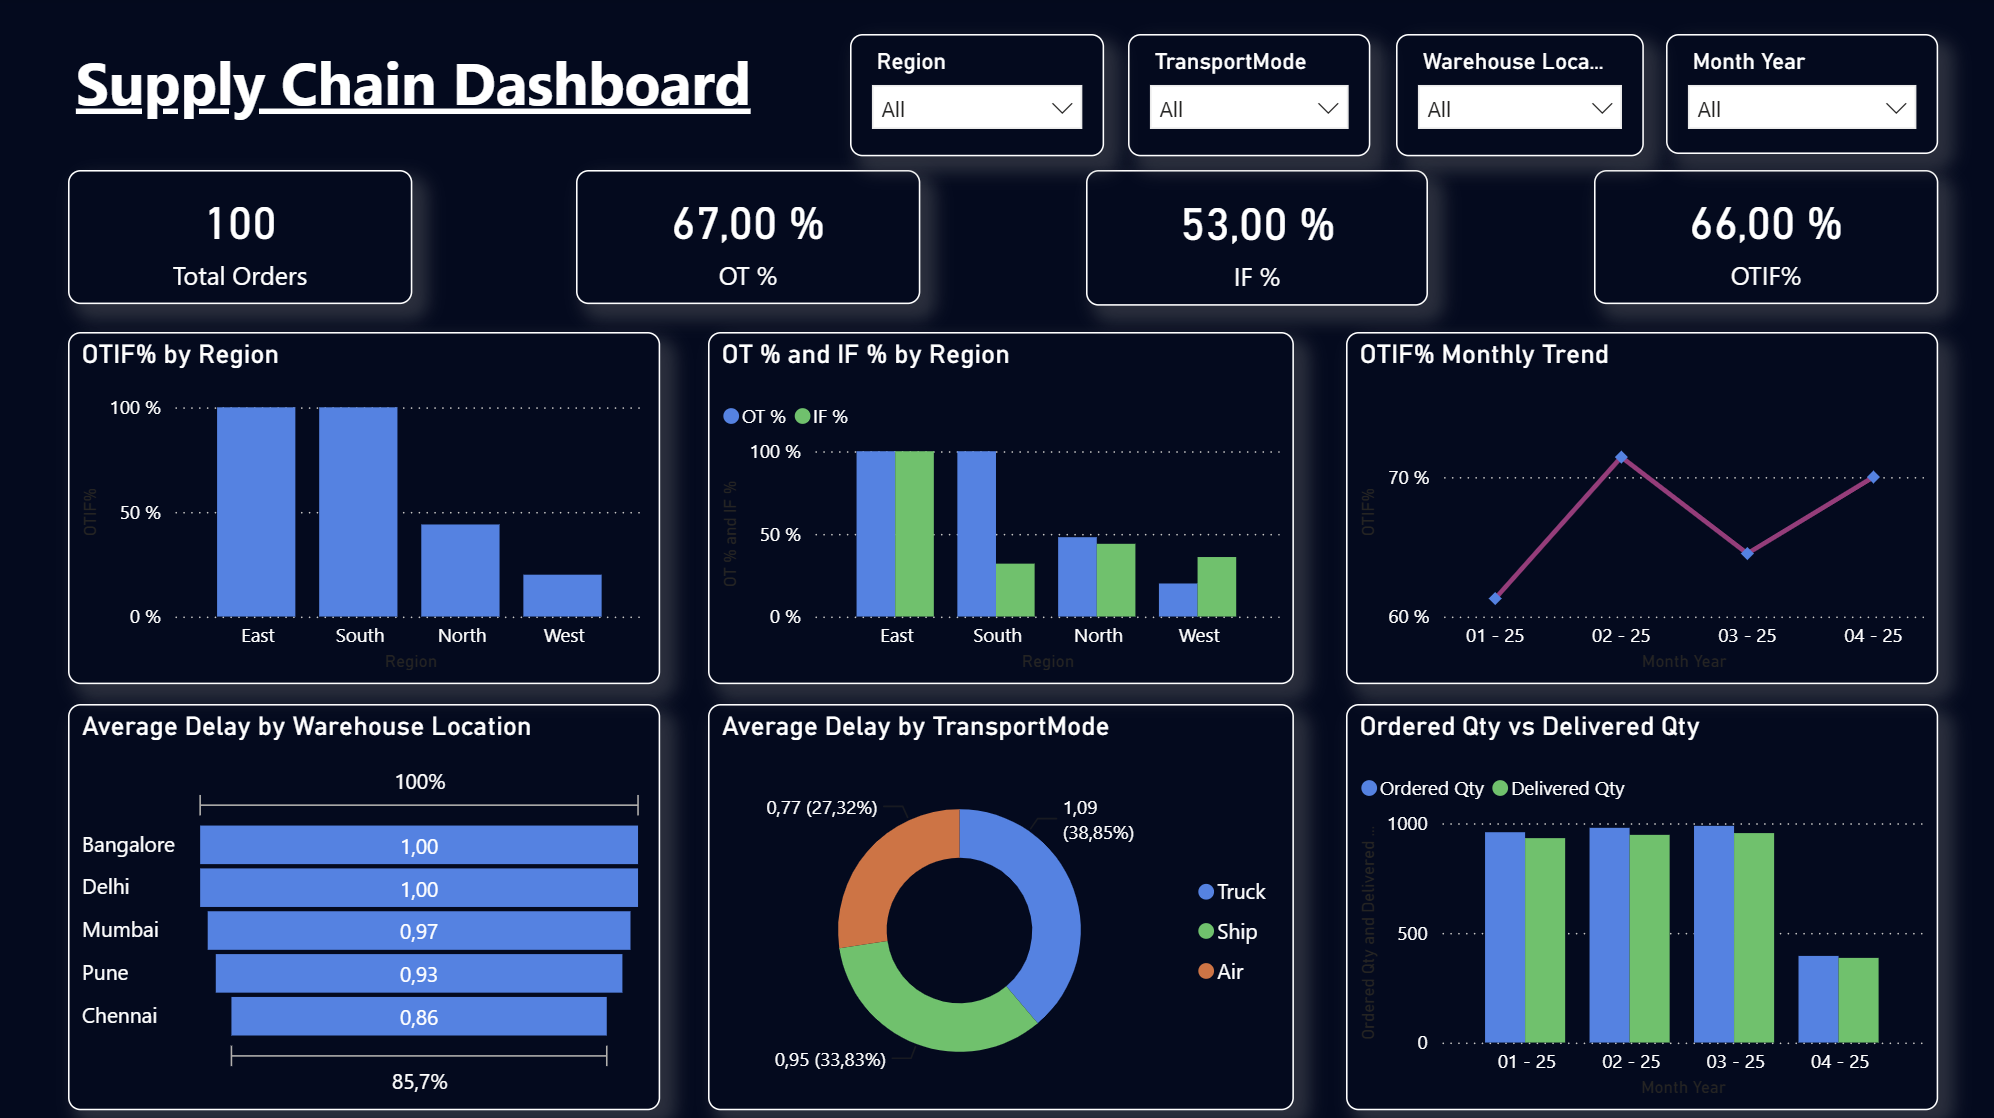

Layout of this report page (visuals, bound fields, positions):
{"tool":"powerbi","page":{"name":"OTIF Tracker","canvas":[1280,720],"ordinal":0},"visuals":[{"type":"card","fields":{"Values":["Measure.OT %"]},"box":[368.4,110.9,219.3,85.4],"z":0},{"type":"card","fields":{"Values":["Measure.IF %"]},"box":[693.5,110.9,218,86.7],"z":1000},{"type":"card","fields":{"Values":["Measure.OTIf %"]},"box":[1017.4,110.9,219.3,85.4],"z":2000},{"type":"clusteredColumnChart","fields":{"Category":["FACT_SCM.Region"],"Y":["Measure.OTIF%"]},"box":[44.6,214.2,377.4,224.4],"z":3000},{"type":"card","fields":{"Values":["Measure.Total Orders"]},"box":[44.6,110.9,219.3,85.4],"z":4000},{"type":"clusteredColumnChart","fields":{"Category":["FACT_SCM.Region"],"Y":["Measure.OT %","Measure.IF %"]},"box":[452.6,214.2,373.5,224.4],"z":5000},{"type":"lineChart","title":"OTIF%  Monthly Trend","fields":{"Y":["Measure.OTIF%"],"Category":["Date_Table.Month Year"]},"box":[859.3,214.2,377.4,224.4],"z":6000},{"type":"funnel","fields":{"Category":["DIM_MATERIAL.Warehouse Location"],"Y":["Measure.Average Delay"]},"box":[44.6,451.3,377.4,258.8],"z":7000},{"type":"donutChart","fields":{"Category":["FACT_SCM.TransportMode"],"Y":["Measure.Average Delay"]},"box":[452.6,451.3,373.5,258.8],"z":8000},{"type":"clusteredColumnChart","title":"Ordered Qty vs Delivered Qty","fields":{"Y":["Sum(FACT_SCM.OrderedQty)","Sum(FACT_SCM.DeliveredQty)"],"Category":["Date_Table.Month Year"]},"box":[859.3,451.3,377.4,258.8],"z":9000},{"type":"textbox","box":[44.6,24.2,484.5,76.5],"z":10000},{"type":"slicer","fields":{"Values":["Date_Table.Month Year"]},"box":[1063.3,24.2,173.4,76.5],"z":11000},{"type":"slicer","fields":{"Values":["DIM_MATERIAL.Warehouse Location"]},"box":[891.2,24.2,158.1,77.8],"z":12000},{"type":"slicer","fields":{"Values":["FACT_SCM.TransportMode"]},"box":[720.3,24.2,154.3,77.8],"z":13000},{"type":"slicer","fields":{"Values":["FACT_SCM.Region"]},"box":[543.1,24.2,161.9,77.8],"z":14000}]}

Visuals, with their boxes in screenshot pixels (x1, y1, x2, y2), scaled from the page's 1280x720 canvas onto the 1994x1118 screenshot:
card - Measure.OT %: locate(574, 172, 916, 305)
card - Measure.IF %: locate(1080, 172, 1420, 307)
card - Measure.OTIf %: locate(1585, 172, 1927, 305)
clusteredColumnChart - FACT_SCM.Region x Measure.OTIF%: locate(69, 333, 657, 681)
card - Measure.Total Orders: locate(69, 172, 411, 305)
clusteredColumnChart - FACT_SCM.Region x Measure.OT %: locate(705, 333, 1287, 681)
"OTIF%  Monthly Trend" lineChart: locate(1339, 333, 1927, 681)
funnel - DIM_MATERIAL.Warehouse Location x Measure.Average Delay: locate(69, 701, 657, 1103)
donutChart - FACT_SCM.TransportMode x Measure.Average Delay: locate(705, 701, 1287, 1103)
"Ordered Qty vs Delivered Qty" clusteredColumnChart: locate(1339, 701, 1927, 1103)
textbox: locate(69, 38, 824, 156)
slicer - Date_Table.Month Year: locate(1656, 38, 1927, 156)
slicer - DIM_MATERIAL.Warehouse Location: locate(1388, 38, 1635, 158)
slicer - FACT_SCM.TransportMode: locate(1122, 38, 1362, 158)
slicer - FACT_SCM.Region: locate(846, 38, 1098, 158)
